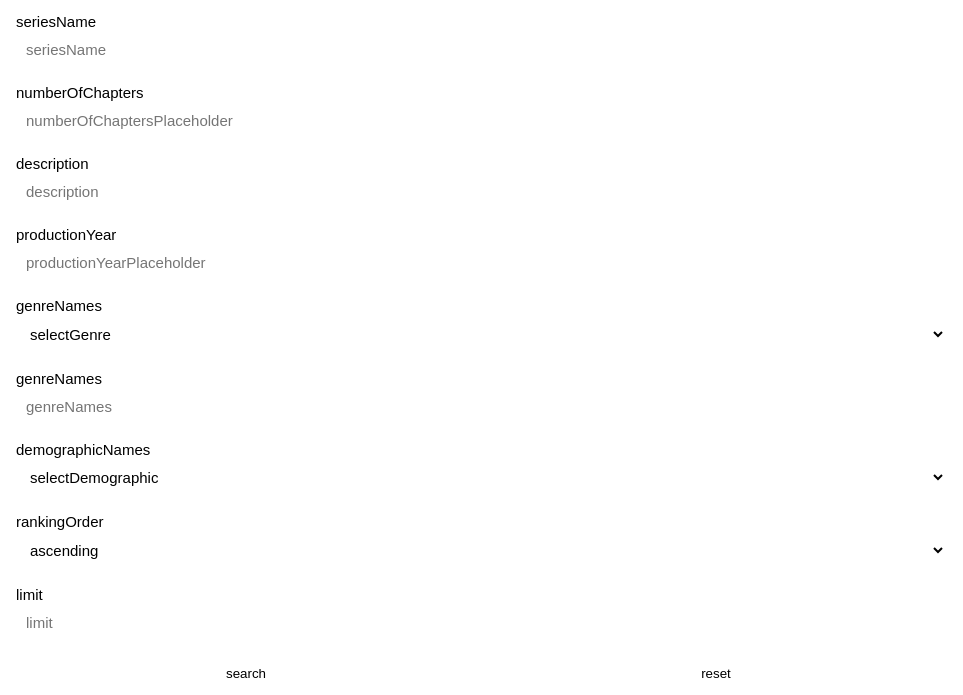
SearchMethod › appends (not replaces) genre_names as a comma-joined list
Select "Action" in the 1st dropdown named "genre_names" at (481,334), box [16,319,946,350]
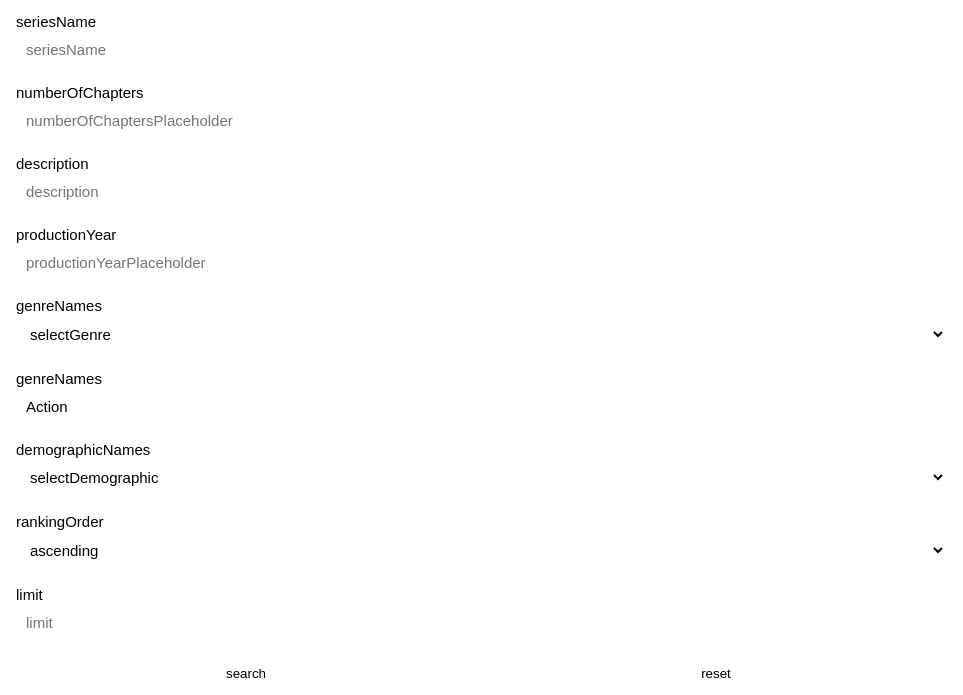
Select "Comedy" in the 1st dropdown named "genre_names" at (481,334), box [16,319,946,350]
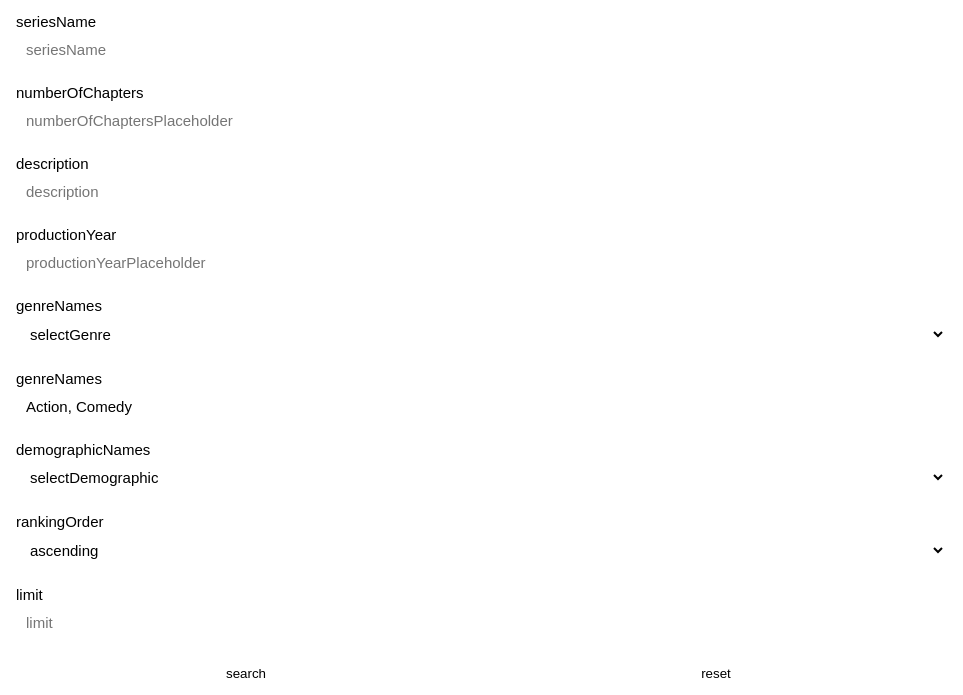
expect the field with placeholder "genreNames" holds "Action, Comedy": met, box [16,392,946,420]
